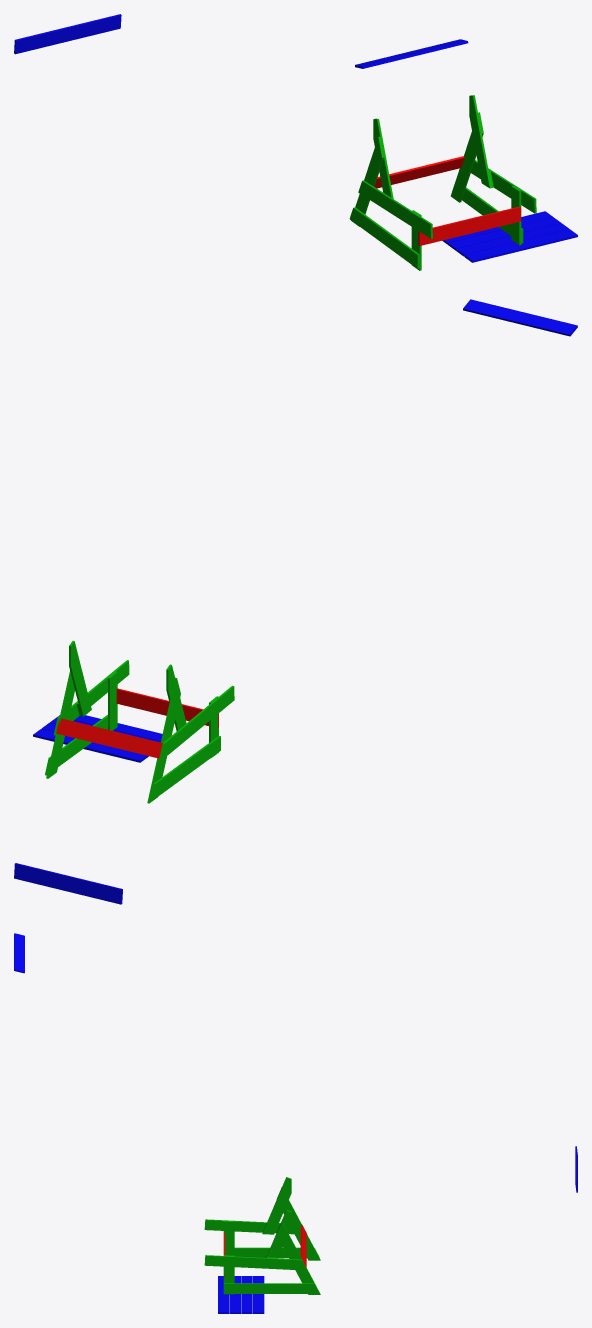
The model's file is result.glb.
3 renders of one model, top to bottom at view 1: azimuth 30°, elevation 25°; view 2: azimuth 150°, elevation 25°; view 3: azimuth 270°, elevation 25°, orthographic. The views are drawn at different scales.
Parts seen in each view (by area): view 1: 673d331b-12a2-48f2-8806-5976e28b544a__Box_8, d6394aac-0593-4c9f-874d-da28ef832b21__Plane_1, aa15d490-801e-4abc-bf42-94aaf5f4e5e5__undefined, 56b54547-7f02-4b09-9c16-86232bbf50a3__undefined, b02142f2-8b64-42be-a24e-462eb682d0b8__Box_5, f14c8c62-721d-466e-8f61-6601ea96eae6__Plane_2, be2beb03-9f1a-4c4a-8f0f-52ae85581c8e__undefined, 5e348fac-24d9-4a3b-b025-ff38c27b9432__Box_1, 528aff11-0e15-4546-a1c9-1c5318a55dd2__Box_2, 91e5fc77-8c93-4ee8-aa9e-44c48b737f30__undefined, 772c6372-120a-4ae9-ac3f-b2e252951b6f__undefined, dd44e669-6bfa-4f9f-9793-e5cc26312ddd__Box_4 (+5 smaller); view 2: 673d331b-12a2-48f2-8806-5976e28b544a__Box_8, f14c8c62-721d-466e-8f61-6601ea96eae6__Plane_2, dd44e669-6bfa-4f9f-9793-e5cc26312ddd__Box_4, aa15d490-801e-4abc-bf42-94aaf5f4e5e5__undefined, 56b54547-7f02-4b09-9c16-86232bbf50a3__undefined, d6394aac-0593-4c9f-874d-da28ef832b21__Plane_1, 49a0e6d5-c97c-4af7-a9ce-3055b82a8cb6__undefined, be2beb03-9f1a-4c4a-8f0f-52ae85581c8e__undefined, 1b7da833-13bb-4008-be4e-5d38d3ddbfe2__Box_3, 91e5fc77-8c93-4ee8-aa9e-44c48b737f30__undefined, 772c6372-120a-4ae9-ac3f-b2e252951b6f__undefined; view 3: 772c6372-120a-4ae9-ac3f-b2e252951b6f__undefined, 159c0483-3264-4dea-b308-1eee21f0dd08__Plane, 34ecfea2-2e52-40cb-b2b4-f9e064384b87__undefined, aa15d490-801e-4abc-bf42-94aaf5f4e5e5__undefined, 91e5fc77-8c93-4ee8-aa9e-44c48b737f30__undefined, 49a0e6d5-c97c-4af7-a9ce-3055b82a8cb6__undefined.
Part boxes in pixels (x1,y1,x2,y2): 673d331b-12a2-48f2-8806-5976e28b544a__Box_8: (14, 14, 121, 54); d6394aac-0593-4c9f-874d-da28ef832b21__Plane_1: (418, 207, 521, 245); aa15d490-801e-4abc-bf42-94aaf5f4e5e5__undefined: (358, 180, 432, 238); 56b54547-7f02-4b09-9c16-86232bbf50a3__undefined: (349, 207, 419, 268); b02142f2-8b64-42be-a24e-462eb682d0b8__Box_5: (464, 229, 577, 262); f14c8c62-721d-466e-8f61-6601ea96eae6__Plane_2: (374, 156, 464, 188); be2beb03-9f1a-4c4a-8f0f-52ae85581c8e__undefined: (469, 95, 491, 188); 5e348fac-24d9-4a3b-b025-ff38c27b9432__Box_1: (456, 223, 569, 256); 528aff11-0e15-4546-a1c9-1c5318a55dd2__Box_2: (448, 217, 560, 250); 91e5fc77-8c93-4ee8-aa9e-44c48b737f30__undefined: (451, 112, 483, 202); 772c6372-120a-4ae9-ac3f-b2e252951b6f__undefined: (471, 160, 536, 213); dd44e669-6bfa-4f9f-9793-e5cc26312ddd__Box_4: (355, 39, 468, 68); 673d331b-12a2-48f2-8806-5976e28b544a__Box_8: (14, 863, 122, 904); f14c8c62-721d-466e-8f61-6601ea96eae6__Plane_2: (56, 718, 162, 758); dd44e669-6bfa-4f9f-9793-e5cc26312ddd__Box_4: (463, 299, 577, 336); aa15d490-801e-4abc-bf42-94aaf5f4e5e5__undefined: (159, 685, 234, 761); 56b54547-7f02-4b09-9c16-86232bbf50a3__undefined: (150, 736, 220, 800); d6394aac-0593-4c9f-874d-da28ef832b21__Plane_1: (116, 688, 218, 727); 49a0e6d5-c97c-4af7-a9ce-3055b82a8cb6__undefined: (147, 677, 180, 803); be2beb03-9f1a-4c4a-8f0f-52ae85581c8e__undefined: (69, 641, 91, 716); 1b7da833-13bb-4008-be4e-5d38d3ddbfe2__Box_3: (33, 729, 148, 762); 91e5fc77-8c93-4ee8-aa9e-44c48b737f30__undefined: (46, 671, 74, 778); 772c6372-120a-4ae9-ac3f-b2e252951b6f__undefined: (53, 660, 129, 735); 772c6372-120a-4ae9-ac3f-b2e252951b6f__undefined: (204, 1255, 307, 1270); 159c0483-3264-4dea-b308-1eee21f0dd08__Plane: (223, 1283, 319, 1293); 34ecfea2-2e52-40cb-b2b4-f9e064384b87__undefined: (262, 1177, 291, 1234); aa15d490-801e-4abc-bf42-94aaf5f4e5e5__undefined: (204, 1219, 306, 1234); 91e5fc77-8c93-4ee8-aa9e-44c48b737f30__undefined: (276, 1221, 320, 1294); 49a0e6d5-c97c-4af7-a9ce-3055b82a8cb6__undefined: (276, 1187, 320, 1260).
Bounding box in the file's own units: 2388 × 2307 × 4593.
